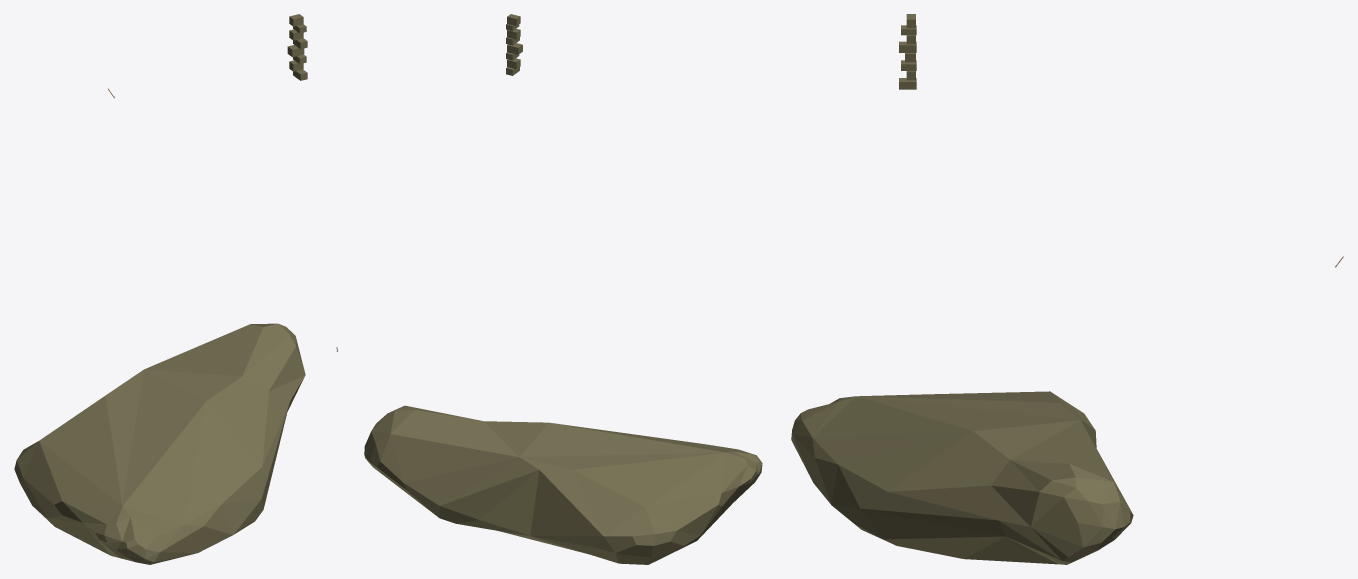
3 renders of one model, left to right at view 1: azimuth 30°, elevation 25°; view 2: azimuth 150°, elevation 25°; view 3: azimuth 270°, elevation 25°, orthographic. The views are drawn at different scales.
Parts seen in each view (by area): view 1: Box15769_rock2_0, Box15602_rock2_0; view 2: Box15769_rock2_0, Box15602_rock2_0; view 3: Box15769_rock2_0, Box15602_rock2_0.
Part boxes in pixels (x1,y1,x2,y2): Box15769_rock2_0: [14, 323, 305, 564]; Box15602_rock2_0: [287, 14, 307, 80]; Box15769_rock2_0: [364, 405, 762, 564]; Box15602_rock2_0: [506, 14, 522, 75]; Box15769_rock2_0: [791, 391, 1133, 564]; Box15602_rock2_0: [899, 14, 916, 89].
Size of the model in its own units: 1712 by 2619 by 2329.
